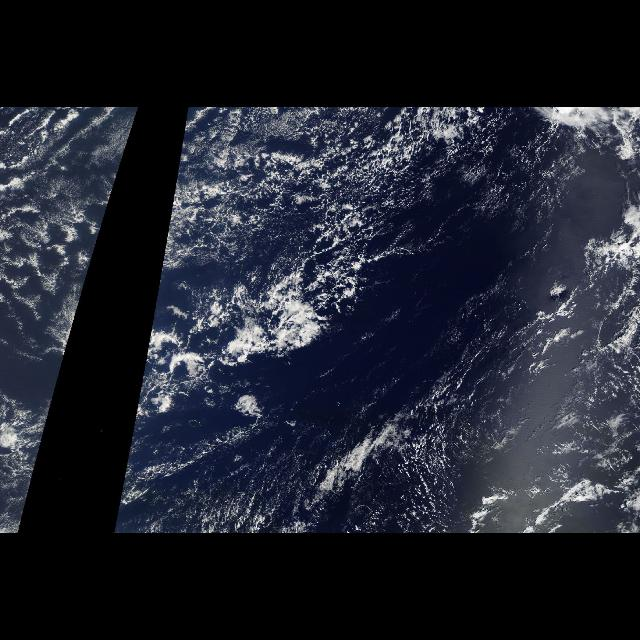Gravel: (192, 108, 492, 288)
Sugar: (205, 109, 640, 532)
